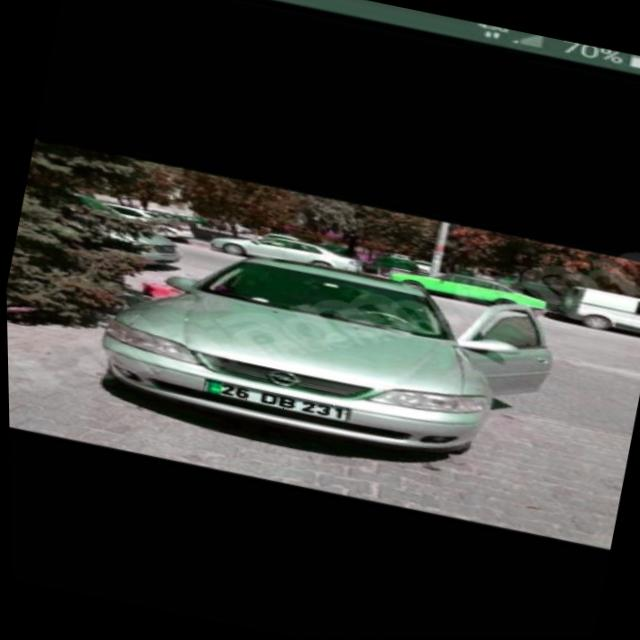license_plate: (200, 378, 347, 422)
